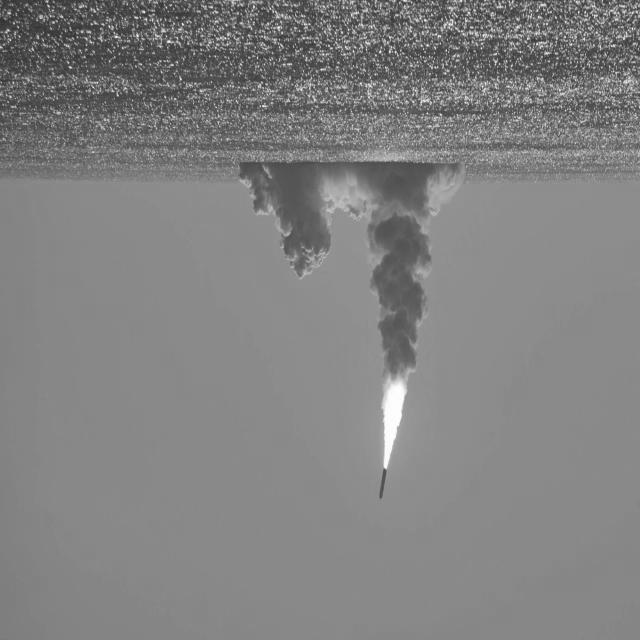Missile: (377, 459, 390, 505)
